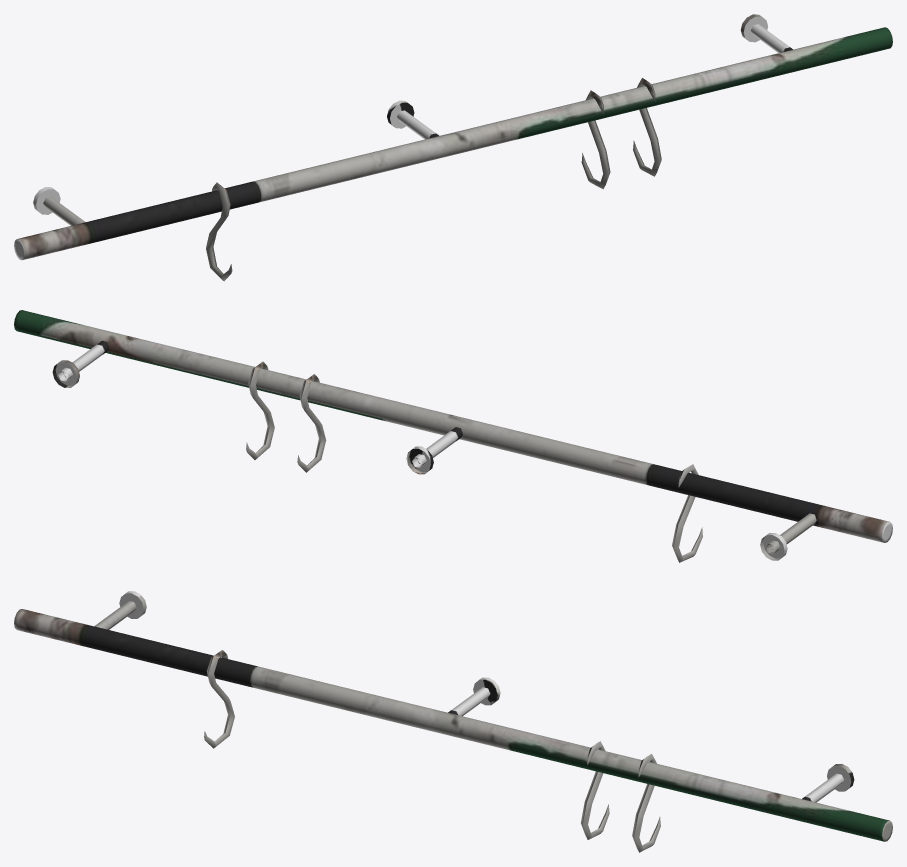
Rendered from hooks.glb.
3 views of the same model, one above another, from view 1: azimuth 30°, elevation 25°; view 2: azimuth 150°, elevation 25°; view 3: azimuth 330°, elevation 25° (orthographic).
Visible parts, largest first — view 1: Wall_Hooks_A; view 2: Wall_Hooks_A; view 3: Wall_Hooks_A.
Part boxes in pixels (x1,y1,x2,y2): Wall_Hooks_A: (14,14,892,281); Wall_Hooks_A: (14,310,892,562); Wall_Hooks_A: (14,591,892,852).
Size of the model in its own units: 1.01 by 0.104 by 0.119.
1 material, 1 textured.
